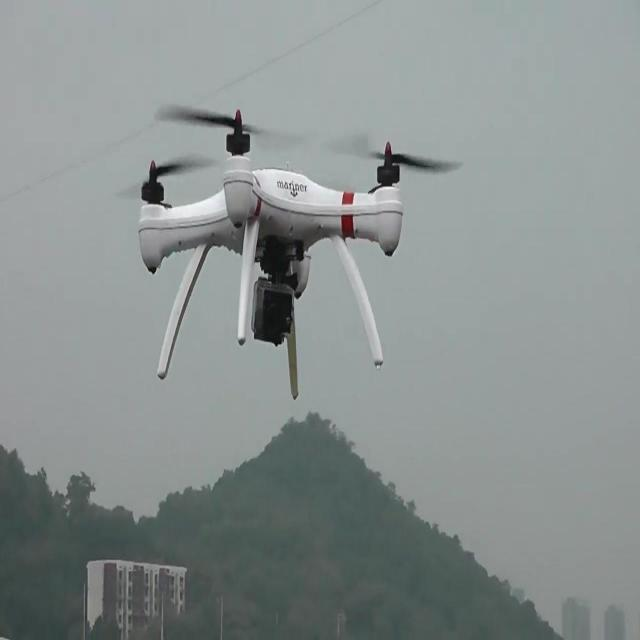UAV: (116, 103, 464, 399)
